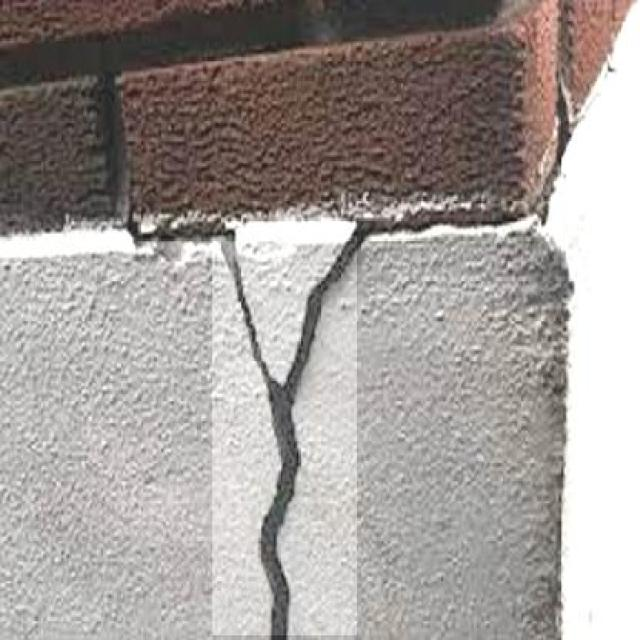Crack: (212, 209, 361, 640)
